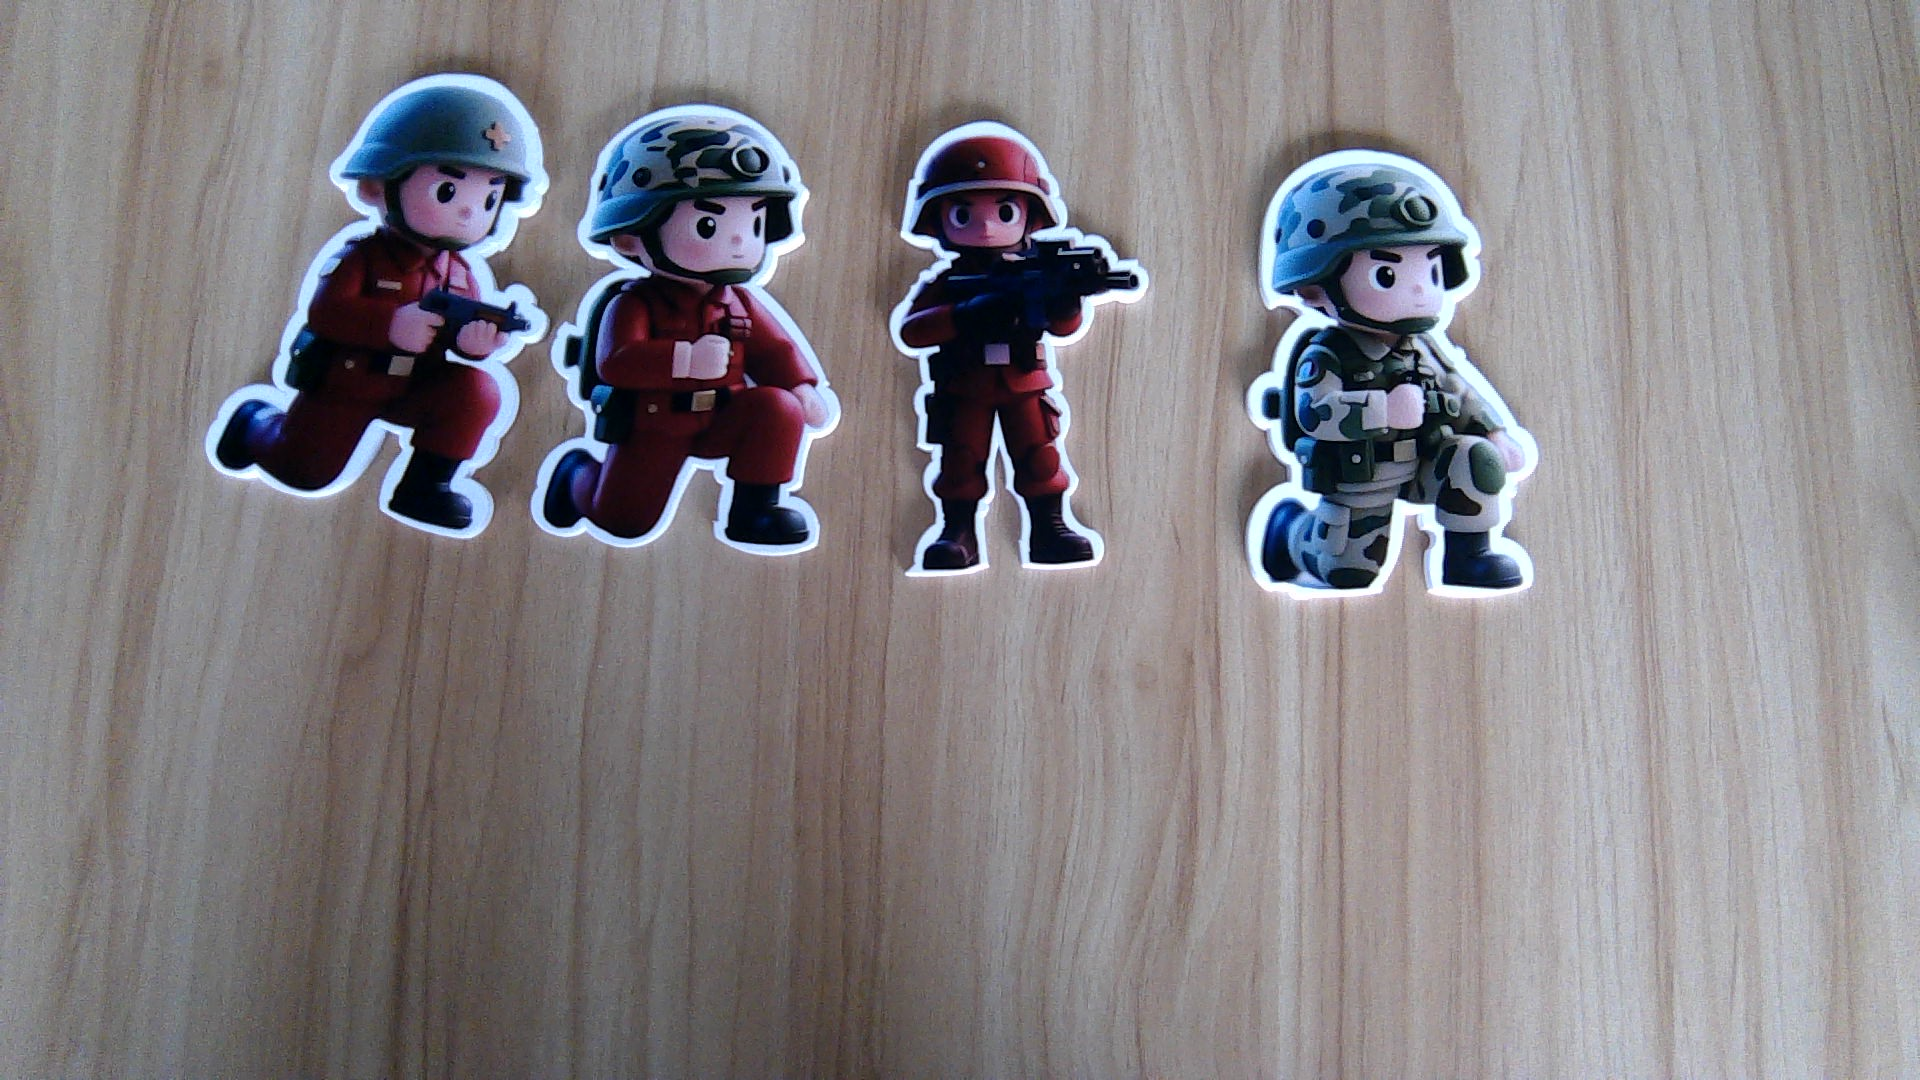友军: (1229, 334, 1547, 612)
敌人1: (191, 237, 542, 541), (542, 273, 845, 560), (884, 255, 1139, 582)
